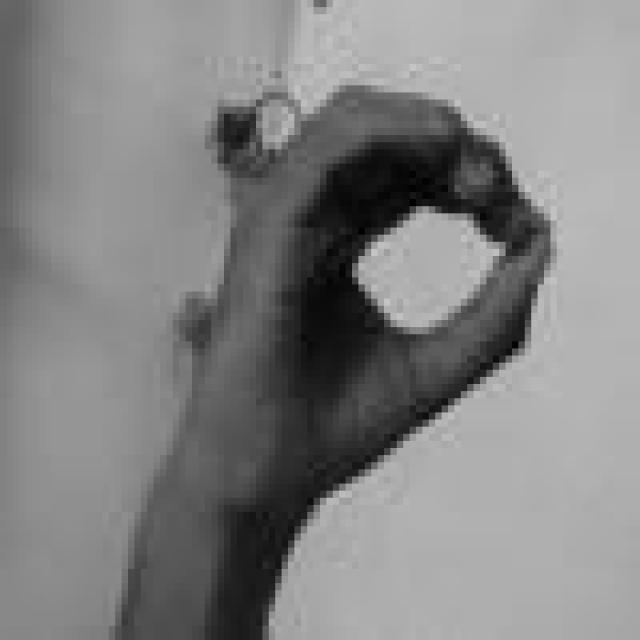O: (202, 74, 560, 466)
